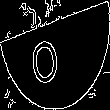O_N: (38, 25, 72, 85)
